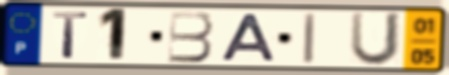1: (95, 6, 128, 65)
A: (218, 12, 278, 63)
B: (166, 10, 215, 64)
I: (301, 12, 318, 66)
T: (50, 10, 91, 61)
U: (347, 10, 405, 69)
